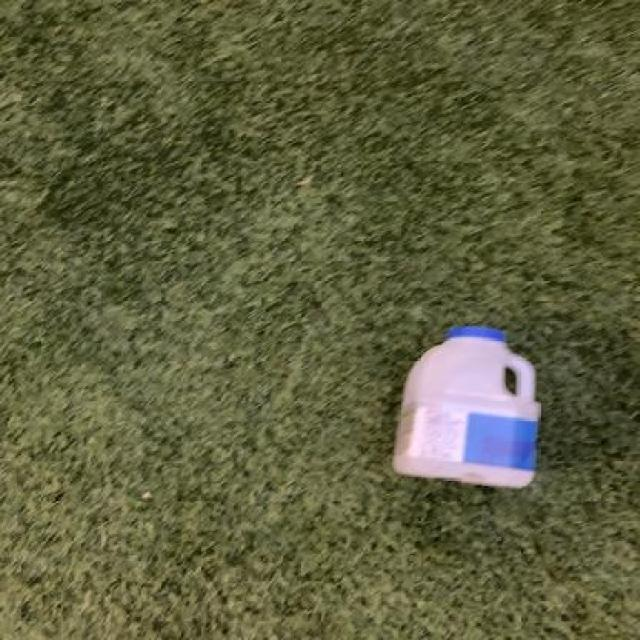trash: (391, 324, 544, 493)
